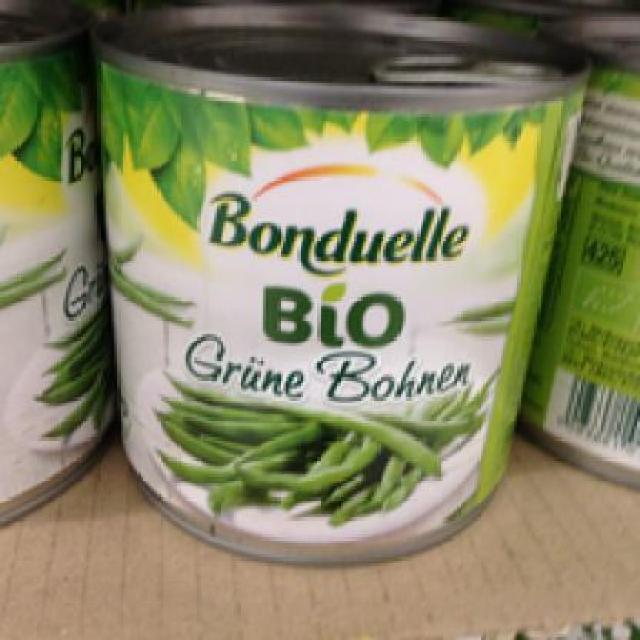Beans: (87, 0, 578, 572)
